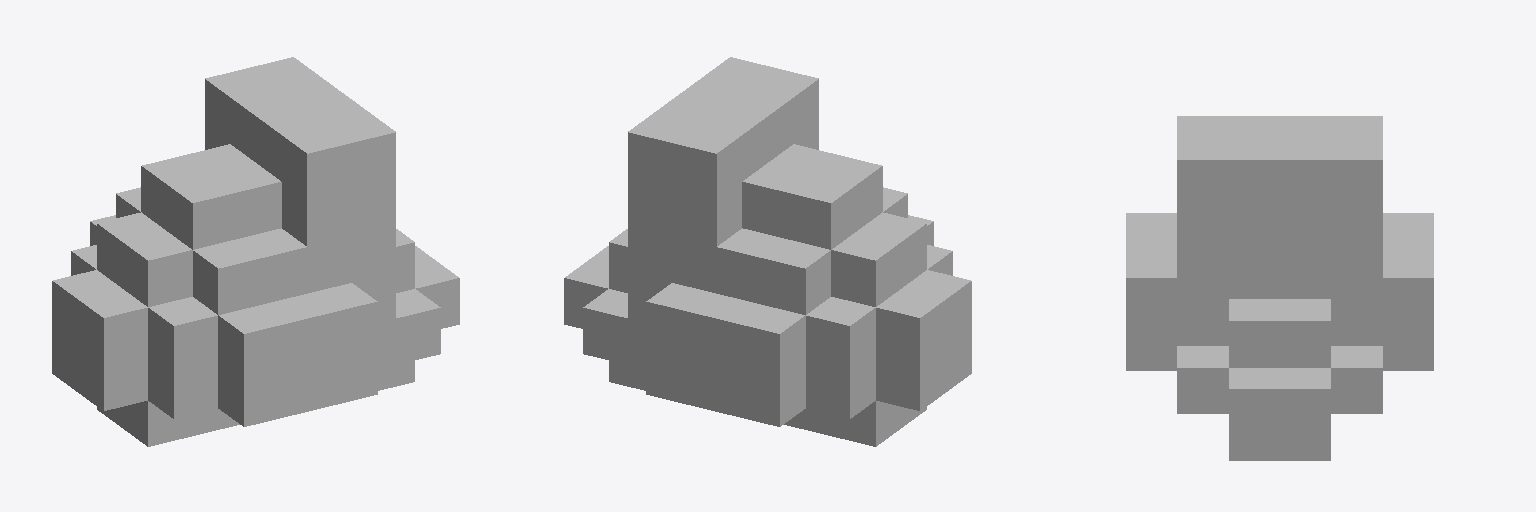
The model's file is Flappy.obj.
3 renders of one model, left to right at view 1: azimuth 30°, elevation 25°; view 2: azimuth 150°, elevation 25°; view 3: azimuth 270°, elevation 25°, orthographic.
Parts seen in each view (by area): view 1: object 1; view 2: object 1; view 3: object 1.
Boxes of the visible parts, x1,y1,x2,y2 form: object 1: [52, 57, 459, 446]; object 1: [564, 57, 971, 446]; object 1: [1126, 116, 1433, 460].
Bounding box in the file's own units: 0.8 × 0.6 × 0.6.